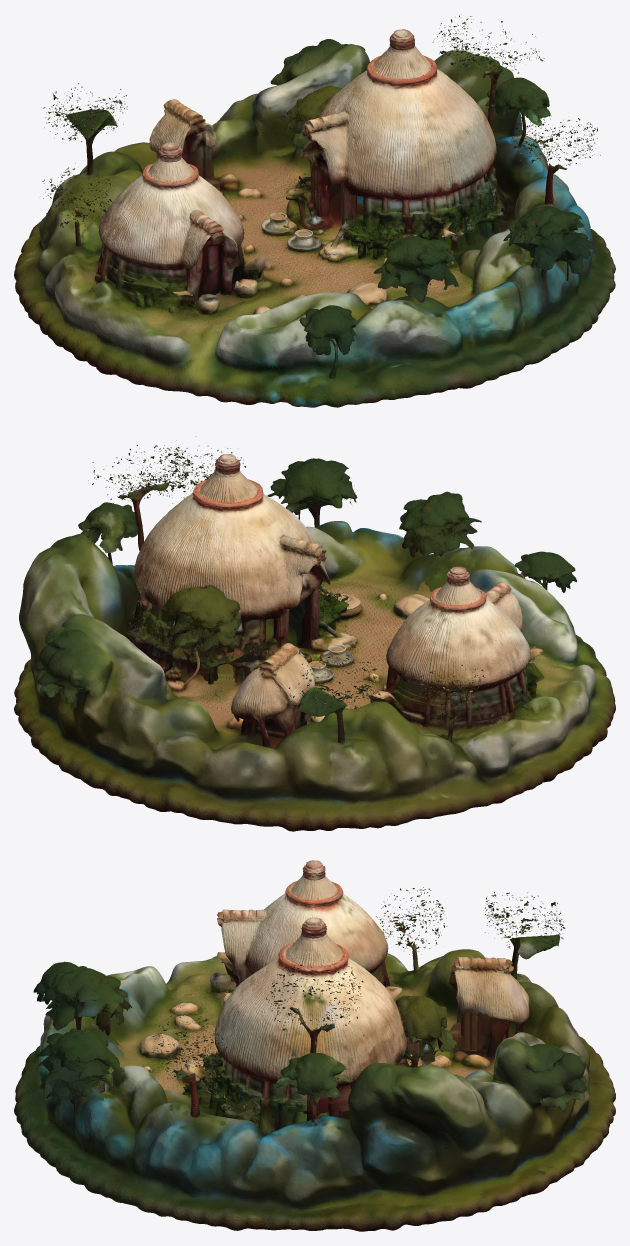
The model's file is 4b3b67ab-ad97-4157-8610-16e8ddc13991_optimized.glb.
3 views of the same model, one above another, from view 1: azimuth 30°, elevation 25°; view 2: azimuth 150°, elevation 25°; view 3: azimuth 270°, elevation 25° (orthographic).
Visible parts, largest first — view 1: tmpmyxfqa7_.obj; view 2: tmpmyxfqa7_.obj; view 3: tmpmyxfqa7_.obj.
Part boxes in pixels (x1,y1,x2,y2): tmpmyxfqa7_.obj: (14, 15, 615, 407); tmpmyxfqa7_.obj: (14, 436, 615, 831); tmpmyxfqa7_.obj: (14, 860, 615, 1231).
Bounding box in the file's own units: 1.64 × 0.6982 × 1.64.
1 material, 1 textured.
